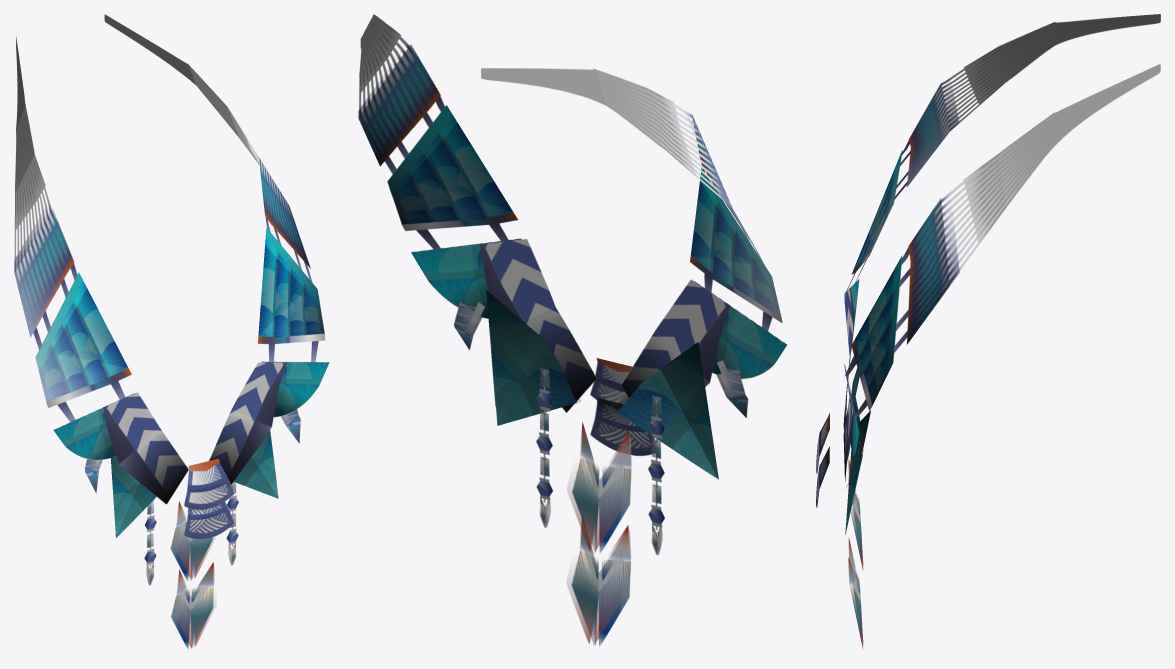
File: necklace.glb
The picture shows the model from 3 angles, left to right: view 1: azimuth 30°, elevation 25°; view 2: azimuth 150°, elevation 25°; view 3: azimuth 270°, elevation 25°; orthographic projection. The views are drawn at different scales.
Parts seen in each view (by area): view 1: necklace_R, necklace_L, feather_down, sector_up, triangle_R, triangle_L, feather_up, sector_down, obj_R, triangle_L.002; view 2: necklace_L, necklace_R, triangle_R, triangle_L, feather_up, feather_down, sector_down, obj_R, triangle_L.002, sector_up, tooth_R, obj_L; view 3: necklace_L, necklace_R, triangle_L, feather_down, feather_up.
Boxes of the visible parts, left/top/right/bottom form: necklace_R: left=14, top=36, right=188, bottom=504; necklace_L: left=104, top=14, right=329, bottom=484; feather_down: left=171, top=562, right=216, bottom=648; sector_up: left=184, top=458, right=234, bottom=509; triangle_R: left=110, top=456, right=156, bottom=537; triangle_L: left=233, top=430, right=278, bottom=498; feather_up: left=170, top=501, right=215, bottom=580; sector_down: left=184, top=501, right=234, bottom=539; obj_R: left=144, top=500, right=156, bottom=585; triangle_L.002: left=226, top=482, right=238, bottom=565; necklace_L: left=358, top=14, right=596, bottom=412; necklace_R: left=481, top=68, right=787, bottom=397; triangle_R: left=611, top=342, right=718, bottom=479; triangle_L: left=486, top=290, right=580, bottom=425; feather_up: left=567, top=422, right=631, bottom=553; feather_down: left=566, top=519, right=630, bottom=646; sector_down: left=590, top=398, right=655, bottom=455; obj_R: left=648, top=395, right=664, bottom=554; triangle_L.002: left=536, top=368, right=552, bottom=527; sector_up: left=590, top=358, right=632, bottom=404; tooth_R: left=716, top=360, right=748, bottom=417; obj_L: left=454, top=300, right=484, bottom=350; necklace_L: left=843, top=64, right=1160, bottom=482; necklace_R: left=843, top=14, right=1160, bottom=430; triangle_L: left=845, top=410, right=870, bottom=535; feather_down: left=848, top=537, right=863, bottom=648; feather_up: left=848, top=458, right=863, bottom=569.
Size of the model in its own units: 336 by 609 by 309.
1 material, 1 textured.
